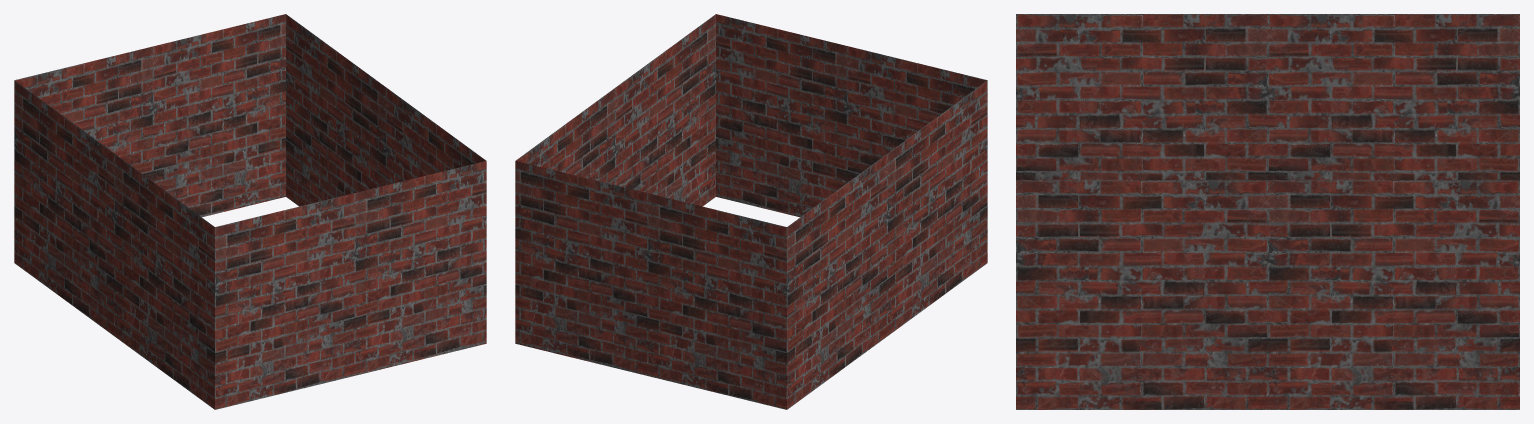
Rendered from walls_037.fbx.
3 views of the same model, side by side, from view 1: azimuth 30°, elevation 25°; view 2: azimuth 150°, elevation 25°; view 3: azimuth 270°, elevation 25° (orthographic). The views are drawn at different scales.
Parts seen in each view (by area): view 1: Quad__11_; view 2: Quad__11_; view 3: Quad__11_.
Part boxes in pixels (box(x1,y1,x2,y2)): Quad__11_: box(14, 14, 486, 409); Quad__11_: box(515, 14, 987, 409); Quad__11_: box(1016, 14, 1519, 409).
Size of the model in its own units: 8.25 by 5.31 by 10.56.
1 material, 1 textured.
